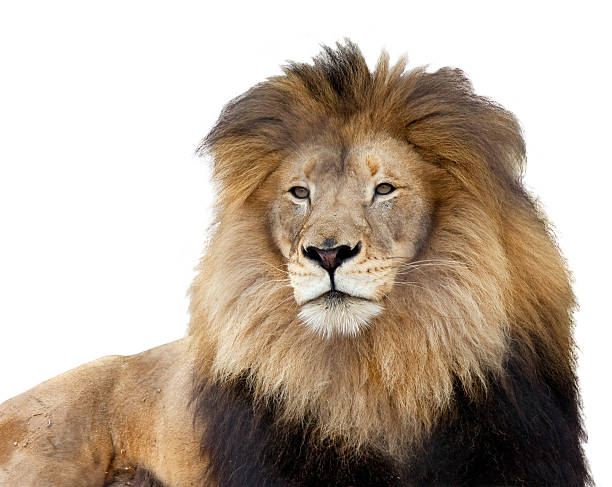lion: (129, 21, 602, 487)
